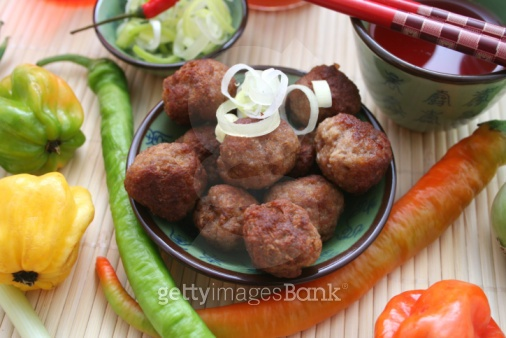meatballs: (240, 201, 319, 273), (220, 117, 298, 187), (317, 115, 386, 188), (155, 62, 235, 122), (127, 147, 200, 212), (285, 61, 360, 123), (270, 178, 344, 226), (196, 190, 250, 251)
